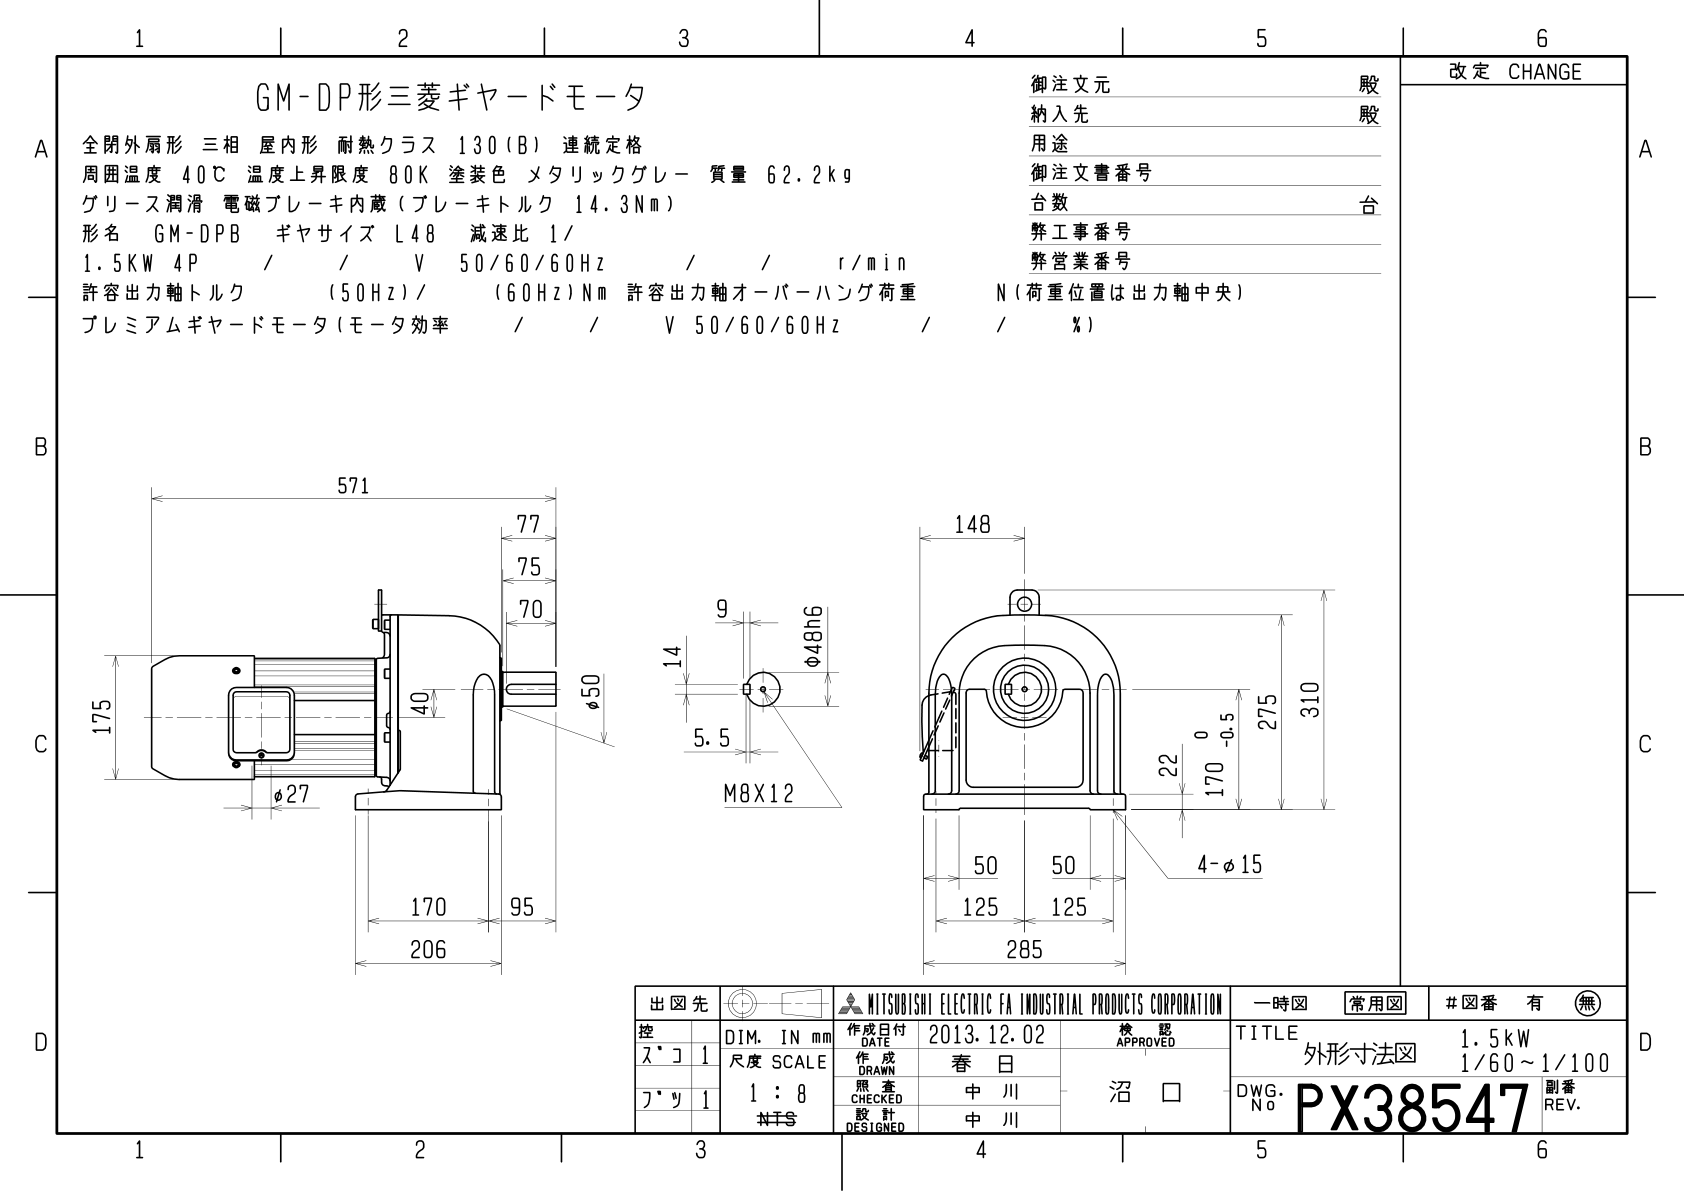GM_DP_屋内_三相_脚: (71, 416, 1379, 978)
